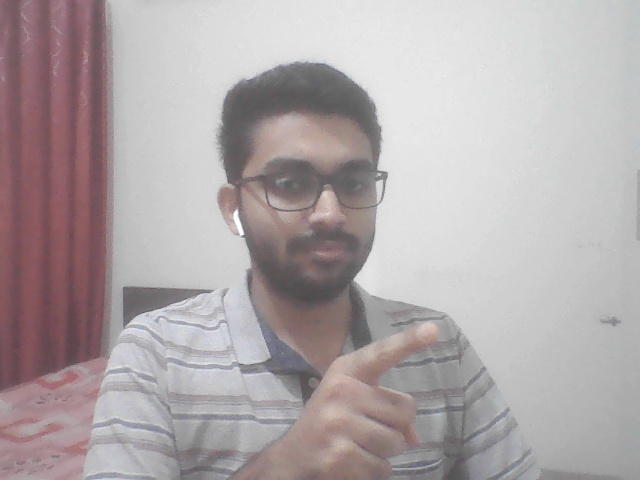you: (258, 301, 471, 480)
